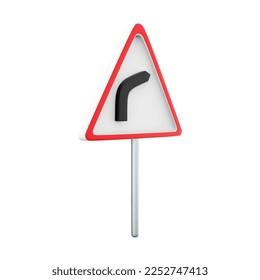Right Hand Curve: (82, 22, 180, 238)
